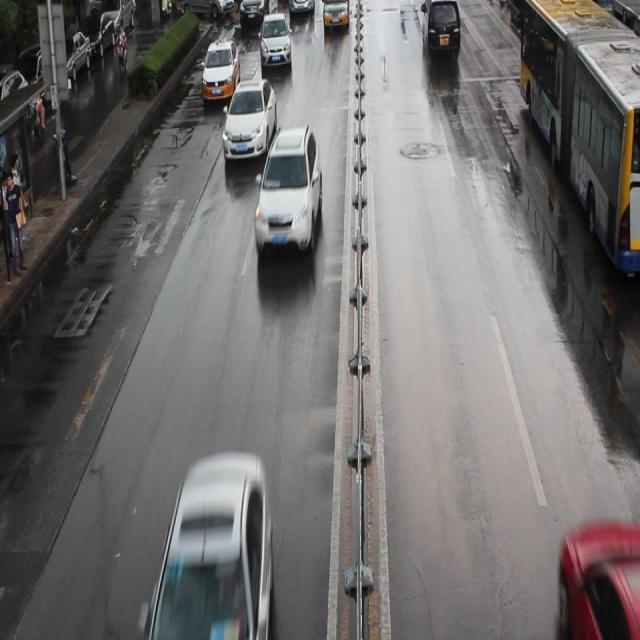car: (147, 454, 272, 640), (557, 516, 639, 640), (254, 127, 322, 256), (222, 78, 276, 160), (202, 38, 241, 99), (260, 14, 291, 66), (174, 1, 235, 14), (322, 1, 349, 27), (239, 1, 268, 23)
truck: (420, 1, 460, 54), (288, 2, 314, 15)
van: (518, 1, 640, 270)
